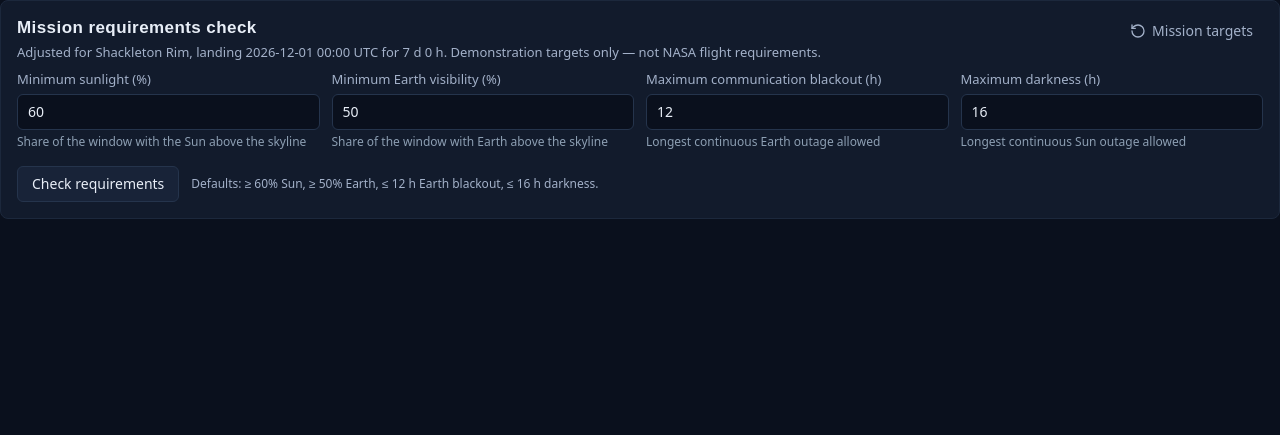
Test: RequirementTuner › sends adjusted targets and reports a failed constraint
Step 1. Replace the text in the number field labelled "Minimum sunlight (%)" with "75" → (168,112), box left=17, top=94, right=320, bottom=130
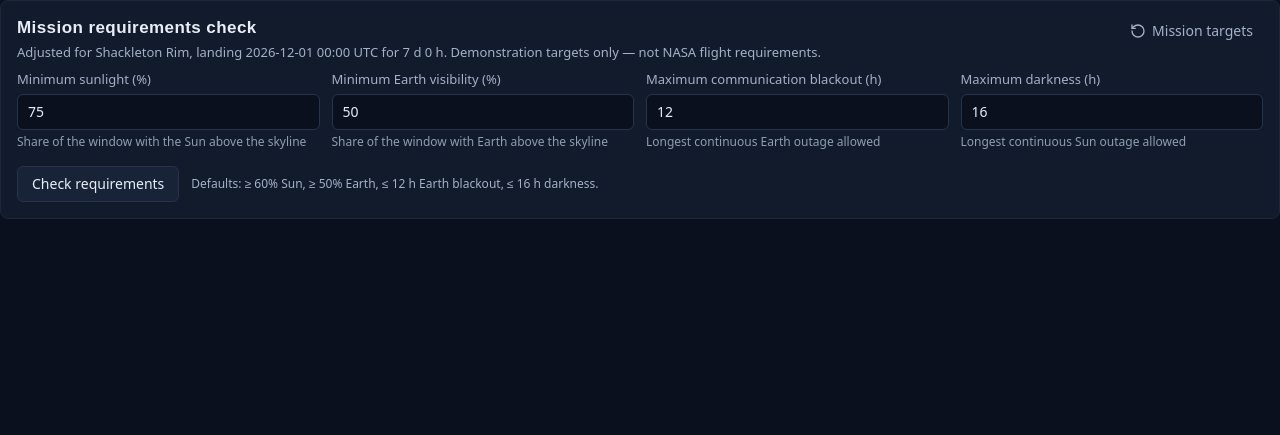
Step 2. Click the button "Check requirements" → (98,184), box left=17, top=166, right=179, bottom=202
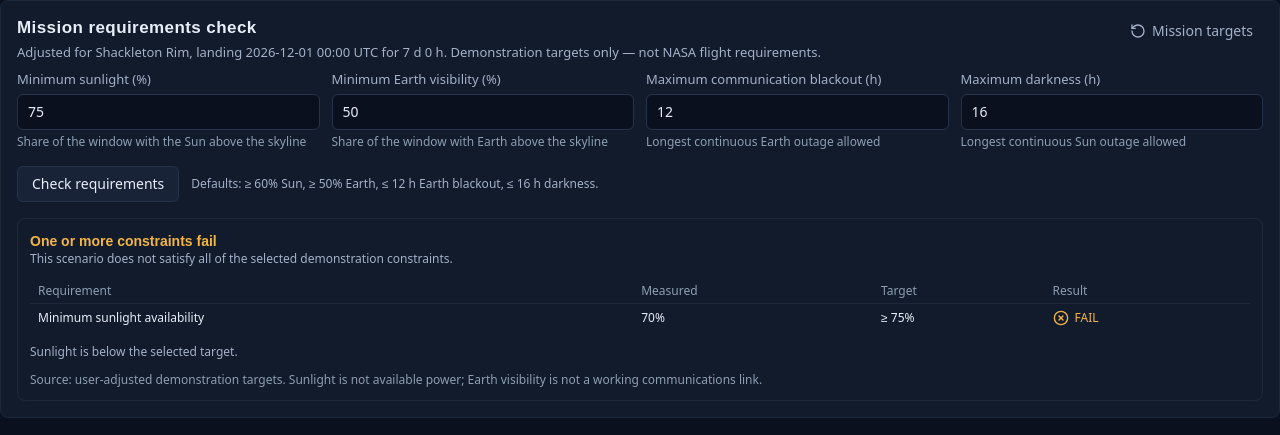
Expected: the text "One or more constraints fail" is shown, left=30, top=232, right=217, bottom=248
Expected: the text "FAIL" is shown, left=1052, top=308, right=1098, bottom=326
